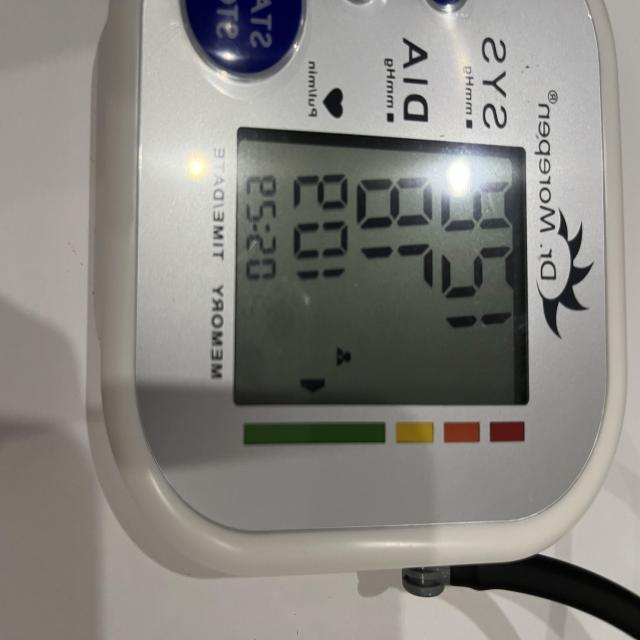bp: (87, 0, 640, 583)
